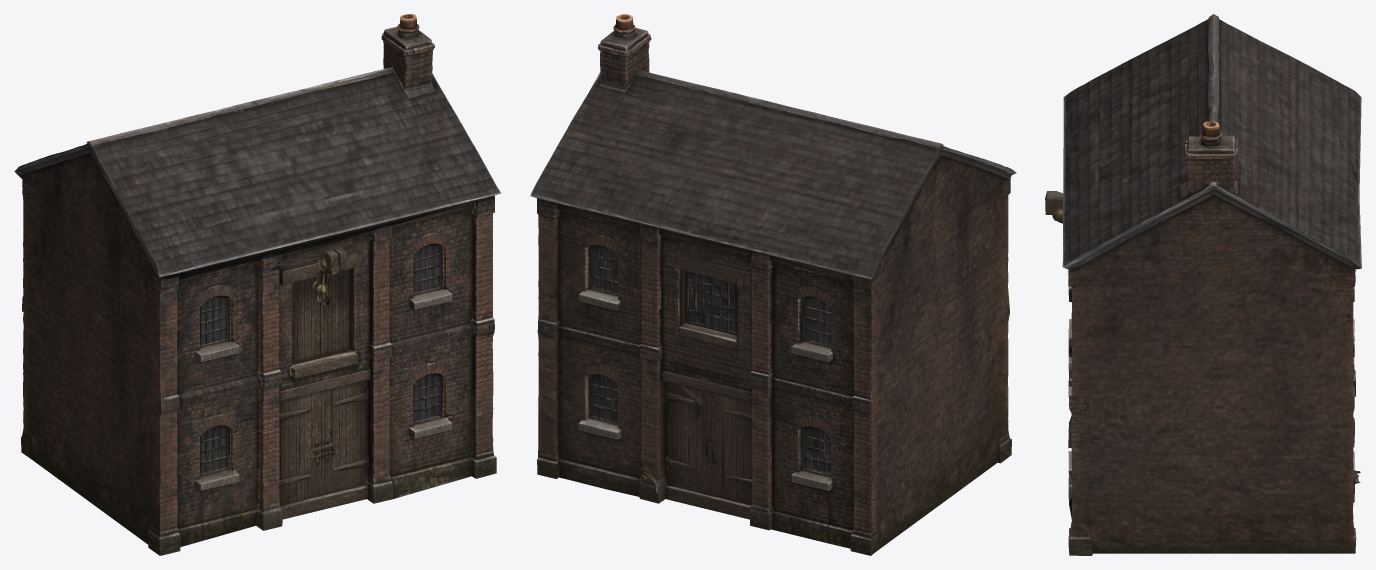
The model's file is SM_Warehouse_AR05.glb.
The picture shows the model from 3 angles, left to right: view 1: azimuth 30°, elevation 25°; view 2: azimuth 150°, elevation 25°; view 3: azimuth 270°, elevation 25°; orthographic projection. The views are drawn at different scales.
Parts seen in each view (by area): view 1: Mesh_0; view 2: Mesh_0; view 3: Mesh_0.
Part boxes in pixels (x1,y1,x2,y2): Mesh_0: [14, 14, 501, 555]; Mesh_0: [530, 14, 1016, 555]; Mesh_0: [1045, 14, 1361, 555].
Bounding box in the file's own units: 1.65 × 1.9 × 1.29.
Materials: 1 (1 with a texture image).
